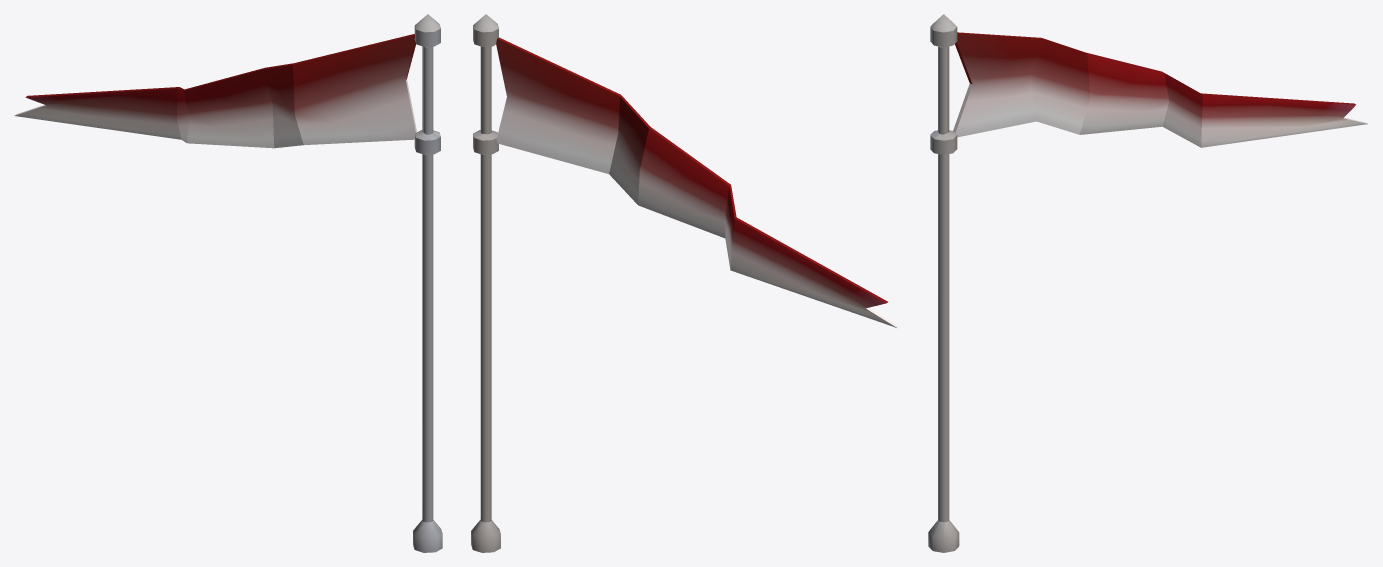
The model's file is castle-flag-red.lod1.glb.
The picture shows the model from 3 angles, left to right: view 1: azimuth 30°, elevation 25°; view 2: azimuth 210°, elevation 25°; view 3: azimuth 270°, elevation 25°; orthographic projection.
Visible parts, largest first — view 1: Castle-flag-red_Texture-base_0; view 2: Castle-flag-red_Texture-base_0; view 3: Castle-flag-red_Texture-base_0.
Part boxes in pixels (x1,y1,x2,y2): Castle-flag-red_Texture-base_0: (14,14,442,552); Castle-flag-red_Texture-base_0: (471,14,899,552); Castle-flag-red_Texture-base_0: (928,14,1367,552).
Bounding box in the file's own units: 2.54 × 6 × 4.5.
Materials: 1 (1 with a texture image).
